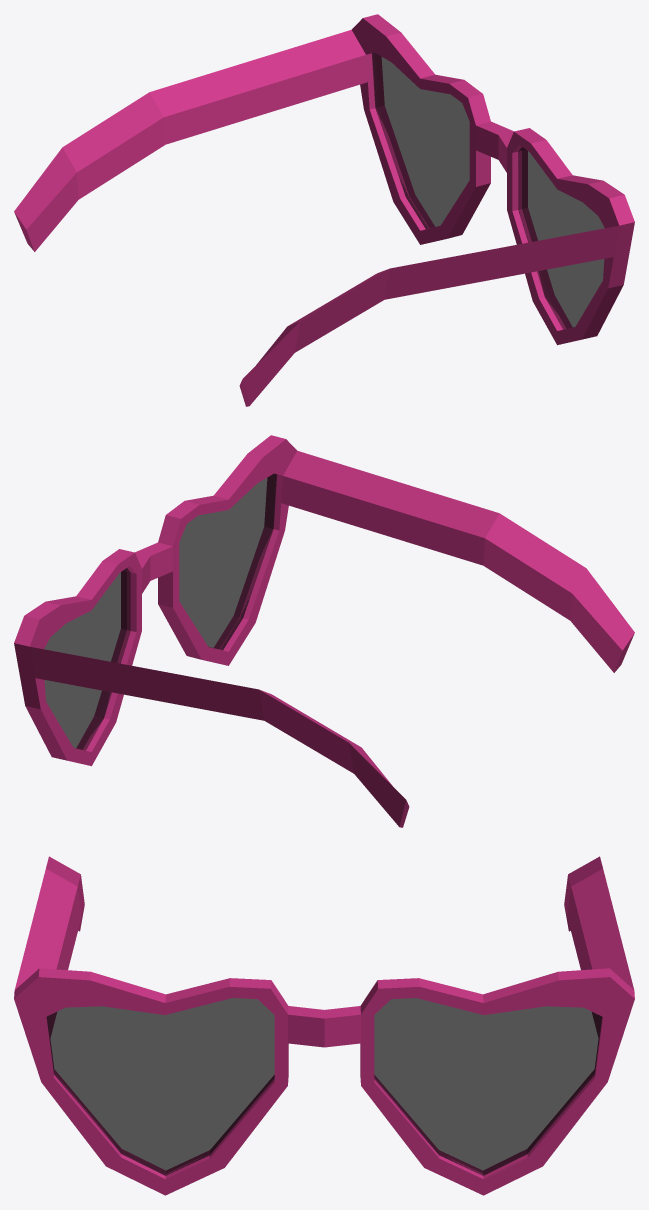
File: HeartGlasses.obj
3 renders of one model, top to bottom at view 1: azimuth 30°, elevation 25°; view 2: azimuth 150°, elevation 25°; view 3: azimuth 270°, elevation 25°, orthographic. The views are drawn at different scales.
Visible parts, largest first — view 1: HeartGlasses_Cube; view 2: HeartGlasses_Cube; view 3: HeartGlasses_Cube.
Boxes of the visible parts, x1,y1,x2,y2 form: HeartGlasses_Cube: (14,14,634,406); HeartGlasses_Cube: (14,435,634,827); HeartGlasses_Cube: (14,856,634,1195).
Bounding box in the file's own units: 0.8829 × 0.4103 × 1.06.
